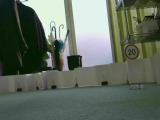speed_20: (124, 44, 141, 60)
